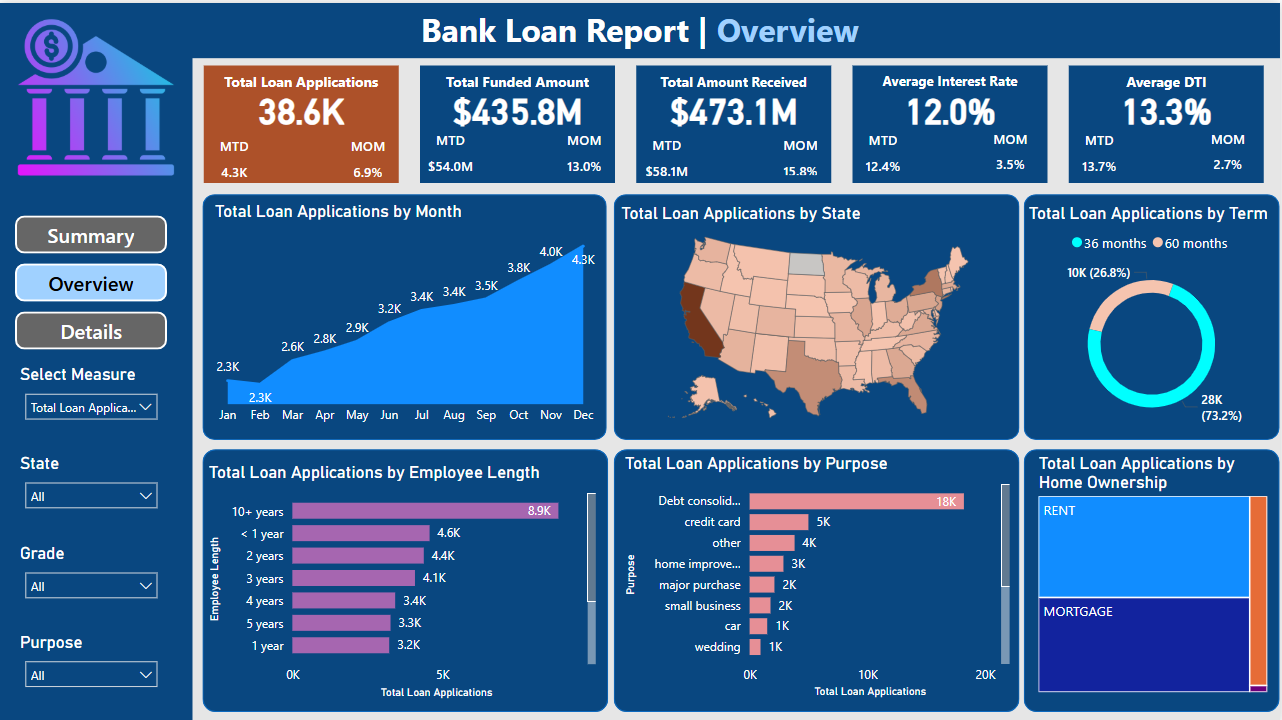

What the dashboard file says about the page in this screenshot:
{"tool":"powerbi","page":{"name":"Overview","canvas":[1280,720],"ordinal":1},"visuals":[{"type":"shape","box":[204.2,62.5,195,117.5],"z":0,"group":"g1"},{"type":"shape","box":[420.3,62.5,195,117.5],"z":0,"group":"g2"},{"type":"shape","box":[636.5,62.5,195,117.5],"z":0,"group":"g10"},{"type":"shape","box":[852.6,62.5,195,117.5],"z":0,"group":"g3"},{"type":"shape","box":[1068.8,62.5,195,117.5],"z":0,"group":"g4"},{"type":"shape","box":[202.9,191.4,404.3,245.7],"z":0},{"type":"shape","box":[0,0,1280,55.2],"z":1000,"group":"g6"},{"type":"shape","box":[0,53.8,192.5,666.2],"z":1000,"group":"g8"},{"type":"cardVisual","fields":{"Data":["bank_loan_data.Total Loan Applications"]},"box":[204.2,63.7,195,77.5],"z":1000,"group":"g1"},{"type":"cardVisual","fields":{"Data":["bank_loan_data.Total Funded Amount"]},"box":[420.3,63.7,195,77.5],"z":1000,"group":"g2"},{"type":"cardVisual","fields":{"Data":["bank_loan_data.Total Amount Received"]},"box":[636.5,63.7,195,77.5],"z":1000,"group":"g10"},{"type":"cardVisual","fields":{"Data":["bank_loan_data.AVG Interest Rate"]},"box":[852.6,63.7,195,77.5],"z":1000,"group":"g3"},{"type":"cardVisual","fields":{"Data":["bank_loan_data.Avg DTI"]},"box":[1068.8,63.7,195,77.5],"z":1000,"group":"g4"},{"type":"textbox","box":[381.4,0,517.3,53.8],"z":2000,"group":"g6"},{"type":"textbox","box":[204.2,63.7,195,28.8],"z":2000,"group":"g1"},{"type":"textbox","box":[420.3,63.7,195,28.8],"z":2000,"group":"g2"},{"type":"textbox","box":[636.5,63.7,195,28.8],"z":2000,"group":"g10"},{"type":"textbox","box":[852.6,63.7,195,28.8],"z":2000,"group":"g3"},{"type":"textbox","box":[1068.8,63.7,195,28.8],"z":2000,"group":"g4"},{"type":"areaChart","fields":{"Y":["bank_loan_data.Total Loan Applications"],"Category":["Date Table.Month"]},"box":[210,197.1,391.4,232.9],"z":2000},{"type":"group","id":"g1","title":"Group 1","box":[203.8,62.5,195.4,118],"z":3000,"group":"g5"},{"type":"cardVisual","title":"MTD","fields":{"Data":["bank_loan_data.MTD Funded Amount"]},"box":[420.3,127.7,61,46],"z":3000,"group":"g2"},{"type":"cardVisual","title":"MTD","fields":{"Data":["bank_loan_data.MTD Avg interest rate"]},"box":[852.6,128,61,46],"z":3000,"group":"g3"},{"type":"cardVisual","title":"MTD","fields":{"Data":["bank_loan_data.MTD Avg DTI"]},"box":[1068.8,128,61,46],"z":3000,"group":"g4"},{"type":"cardVisual","title":"MTD","fields":{"Data":["bank_loan_data.MTD Amount Received"]},"box":[636.5,132.6,61,46],"z":3000,"group":"g10"},{"type":"cardVisual","title":"MTD","fields":{"Data":["bank_loan_data.MTD Loan Applications"]},"box":[203.8,133.9,61,46.6],"z":3000,"group":"g1"},{"type":"pageNavigator","box":[15,212.6,152.5,136.2],"z":3000,"group":"g7"},{"type":"group","id":"g2","title":"Group 1","box":[420.3,62.5,195,117.5],"z":4000,"group":"g5"},{"type":"cardVisual","title":"MOM","fields":{"Data":["bank_loan_data.MOM% Avg Interest rate"]},"box":[974.3,126.3,73.6,49.1],"z":4000,"group":"g3"},{"type":"cardVisual","title":"MOM","fields":{"Data":["bank_loan_data.MOM% Avg DTI"]},"box":[1194,126.3,68.7,47.8],"z":4000,"group":"g4"},{"type":"cardVisual","title":"MOM","fields":{"Data":["bank_loan_data.MoM% Funded Amount"]},"box":[554,127.7,61.3,46],"z":4000,"group":"g2"},{"type":"cardVisual","title":"MOM","fields":{"Data":["bank_loan_data.MoM% Amount Received"]},"box":[770.2,132.9,61.3,45.4],"z":4000,"group":"g10"},{"type":"cardVisual","title":"MOM","fields":{"Data":["bank_loan_data.MoM Loan Application"]},"box":[337.9,133.9,61.3,46.6],"z":4000,"group":"g1"},{"type":"shape","box":[614.3,191.4,405.7,245.7],"z":4000},{"type":"shapeMap","fields":{"Value":["bank_loan_data.Total Loan Applications"],"Category":["bank_loan_data.address_state"]},"box":[615.7,200,404.3,230],"z":5000},{"type":"shape","box":[1024.3,191.4,255.7,245.7],"z":6000},{"type":"group","id":"g3","title":"Group 1","box":[852.6,62.5,195.3,117.5],"z":7000,"group":"g5"},{"type":"donutChart","fields":{"Y":["bank_loan_data.Total Loan Applications"],"Category":["bank_loan_data.term"]},"box":[1024.3,200,255.7,232.9],"z":7000},{"type":"group","id":"g4","title":"Group 1","box":[1068.8,62.5,195,117.5],"z":8000,"group":"g5"},{"type":"shape","box":[202.9,445.7,405.7,262.9],"z":8000},{"type":"shape","box":[614.3,445.7,405.7,262.9],"z":9000},{"type":"barChart","fields":{"Y":["bank_loan_data.Total Loan Applications"],"Category":["bank_loan_data.emp_length"]},"box":[204.3,458.6,397.1,241.4],"z":10000},{"type":"barChart","fields":{"Y":["bank_loan_data.Total Loan Applications"],"Category":["bank_loan_data.purpose"]},"box":[620,450,394.3,250],"z":11000},{"type":"shape","box":[1024.3,445.7,255.7,262.9],"z":12000},{"type":"slicer","title":"State","fields":{"Values":["bank_loan_data.address_state"]},"box":[15,450.6,152.5,76.2],"z":13000,"group":"g7"},{"type":"treemap","fields":{"Values":["bank_loan_data.Total Loan Applications"],"Group":["bank_loan_data.home_ownership"]},"box":[1034.3,450,238.6,244.3],"z":14000},{"type":"slicer","title":"Grade","fields":{"Values":["bank_loan_data.grade"]},"box":[15,539.7,152.5,76.2],"z":15000,"group":"g7"},{"type":"slicer","title":"Purpose","fields":{"Values":["bank_loan_data.purpose"]},"box":[15,628.8,152.5,76.2],"z":17000,"group":"g7"},{"type":"group","id":"g5","title":"Group 2","box":[203.8,62.5,1060,118],"z":18000},{"type":"group","id":"g6","title":"Group 4","box":[0,0,1280,55.2],"z":19000,"group":"g9"},{"type":"slicer","title":"Select Measure","fields":{"Values":["Select Measure.Select Measure"]},"box":[15,361.7,152,76],"z":20000,"group":"g7"},{"type":"group","id":"g7","title":"Group 3","box":[15,212.6,152.5,492.5],"z":20001,"group":"g8"},{"type":"group","id":"g8","title":"Group 5","box":[0,53.8,192.5,666.2],"z":20002,"group":"g9"},{"type":"group","id":"g9","title":"Group 6","box":[0,0,1280,720],"z":20003},{"type":"image","box":[8.8,8.8,173.8,171.2],"z":20503},{"type":"group","id":"g10","title":"Group 1","box":[636.5,62.5,195,117.5],"z":25001,"group":"g5"}]}

Visuals, with their boxes in screenshot pixels (x1, y1, x2, y2), scaled from the page's 1280x720 canvas onto the 1282x720 screenshot:
shape: bbox=(205, 62, 400, 180)
shape: bbox=(421, 62, 616, 180)
shape: bbox=(637, 62, 833, 180)
shape: bbox=(854, 62, 1049, 180)
shape: bbox=(1070, 62, 1266, 180)
shape: bbox=(203, 191, 608, 437)
shape: bbox=(0, 0, 1281, 55)
shape: bbox=(0, 54, 193, 719)
cardVisual - bank_loan_data.Total Loan Applications: bbox=(205, 64, 400, 141)
cardVisual - bank_loan_data.Total Funded Amount: bbox=(421, 64, 616, 141)
cardVisual - bank_loan_data.Total Amount Received: bbox=(637, 64, 833, 141)
cardVisual - bank_loan_data.AVG Interest Rate: bbox=(854, 64, 1049, 141)
cardVisual - bank_loan_data.Avg DTI: bbox=(1070, 64, 1266, 141)
textbox: bbox=(382, 0, 900, 54)
textbox: bbox=(205, 64, 400, 92)
textbox: bbox=(421, 64, 616, 92)
textbox: bbox=(637, 64, 833, 92)
textbox: bbox=(854, 64, 1049, 92)
textbox: bbox=(1070, 64, 1266, 92)
areaChart - bank_loan_data.Total Loan Applications x Date Table.Month: bbox=(210, 197, 602, 430)
"Group 1" group: bbox=(204, 62, 400, 180)
"MTD" cardVisual: bbox=(421, 128, 482, 174)
"MTD" cardVisual: bbox=(854, 128, 915, 174)
"MTD" cardVisual: bbox=(1070, 128, 1132, 174)
"MTD" cardVisual: bbox=(637, 133, 699, 179)
"MTD" cardVisual: bbox=(204, 134, 265, 180)
pageNavigator: bbox=(15, 213, 168, 349)
"Group 1" group: bbox=(421, 62, 616, 180)
"MOM" cardVisual: bbox=(976, 126, 1050, 175)
"MOM" cardVisual: bbox=(1196, 126, 1265, 174)
"MOM" cardVisual: bbox=(555, 128, 616, 174)
"MOM" cardVisual: bbox=(771, 133, 833, 178)
"MOM" cardVisual: bbox=(338, 134, 400, 180)
shape: bbox=(615, 191, 1022, 437)
shapeMap - bank_loan_data.Total Loan Applications x bank_loan_data.address_state: bbox=(617, 200, 1022, 430)
shape: bbox=(1026, 191, 1281, 437)
"Group 1" group: bbox=(854, 62, 1050, 180)
donutChart - bank_loan_data.Total Loan Applications x bank_loan_data.term: bbox=(1026, 200, 1281, 433)
"Group 1" group: bbox=(1070, 62, 1266, 180)
shape: bbox=(203, 446, 610, 709)
shape: bbox=(615, 446, 1022, 709)
barChart - bank_loan_data.Total Loan Applications x bank_loan_data.emp_length: bbox=(205, 459, 602, 700)
barChart - bank_loan_data.Total Loan Applications x bank_loan_data.purpose: bbox=(621, 450, 1016, 700)
shape: bbox=(1026, 446, 1281, 709)
"State" slicer: bbox=(15, 451, 168, 527)
treemap - bank_loan_data.Total Loan Applications x bank_loan_data.home_ownership: bbox=(1036, 450, 1275, 694)
"Grade" slicer: bbox=(15, 540, 168, 616)
"Purpose" slicer: bbox=(15, 629, 168, 705)
"Group 2" group: bbox=(204, 62, 1266, 180)
"Group 4" group: bbox=(0, 0, 1281, 55)
"Select Measure" slicer: bbox=(15, 362, 167, 438)
"Group 3" group: bbox=(15, 213, 168, 705)
"Group 5" group: bbox=(0, 54, 193, 719)
"Group 6" group: bbox=(0, 0, 1281, 719)
image: bbox=(9, 9, 183, 180)
"Group 1" group: bbox=(637, 62, 833, 180)
